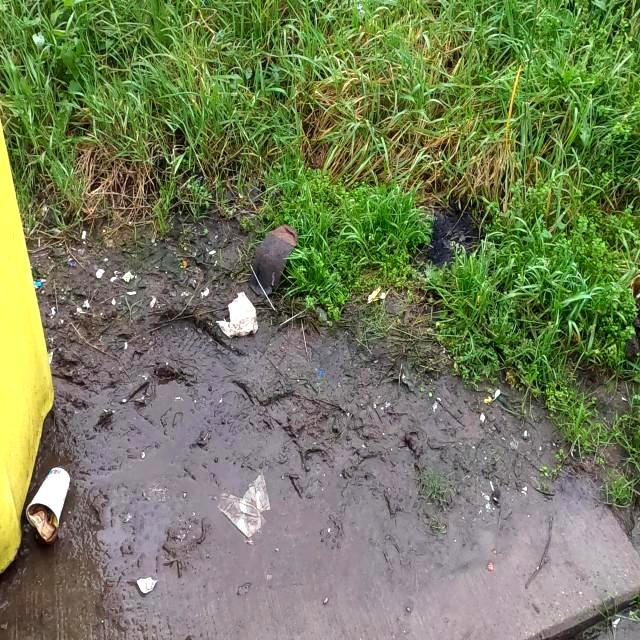Coffee Cup: (25, 466, 71, 544)
Paper: (216, 470, 272, 538), (214, 289, 260, 339)
